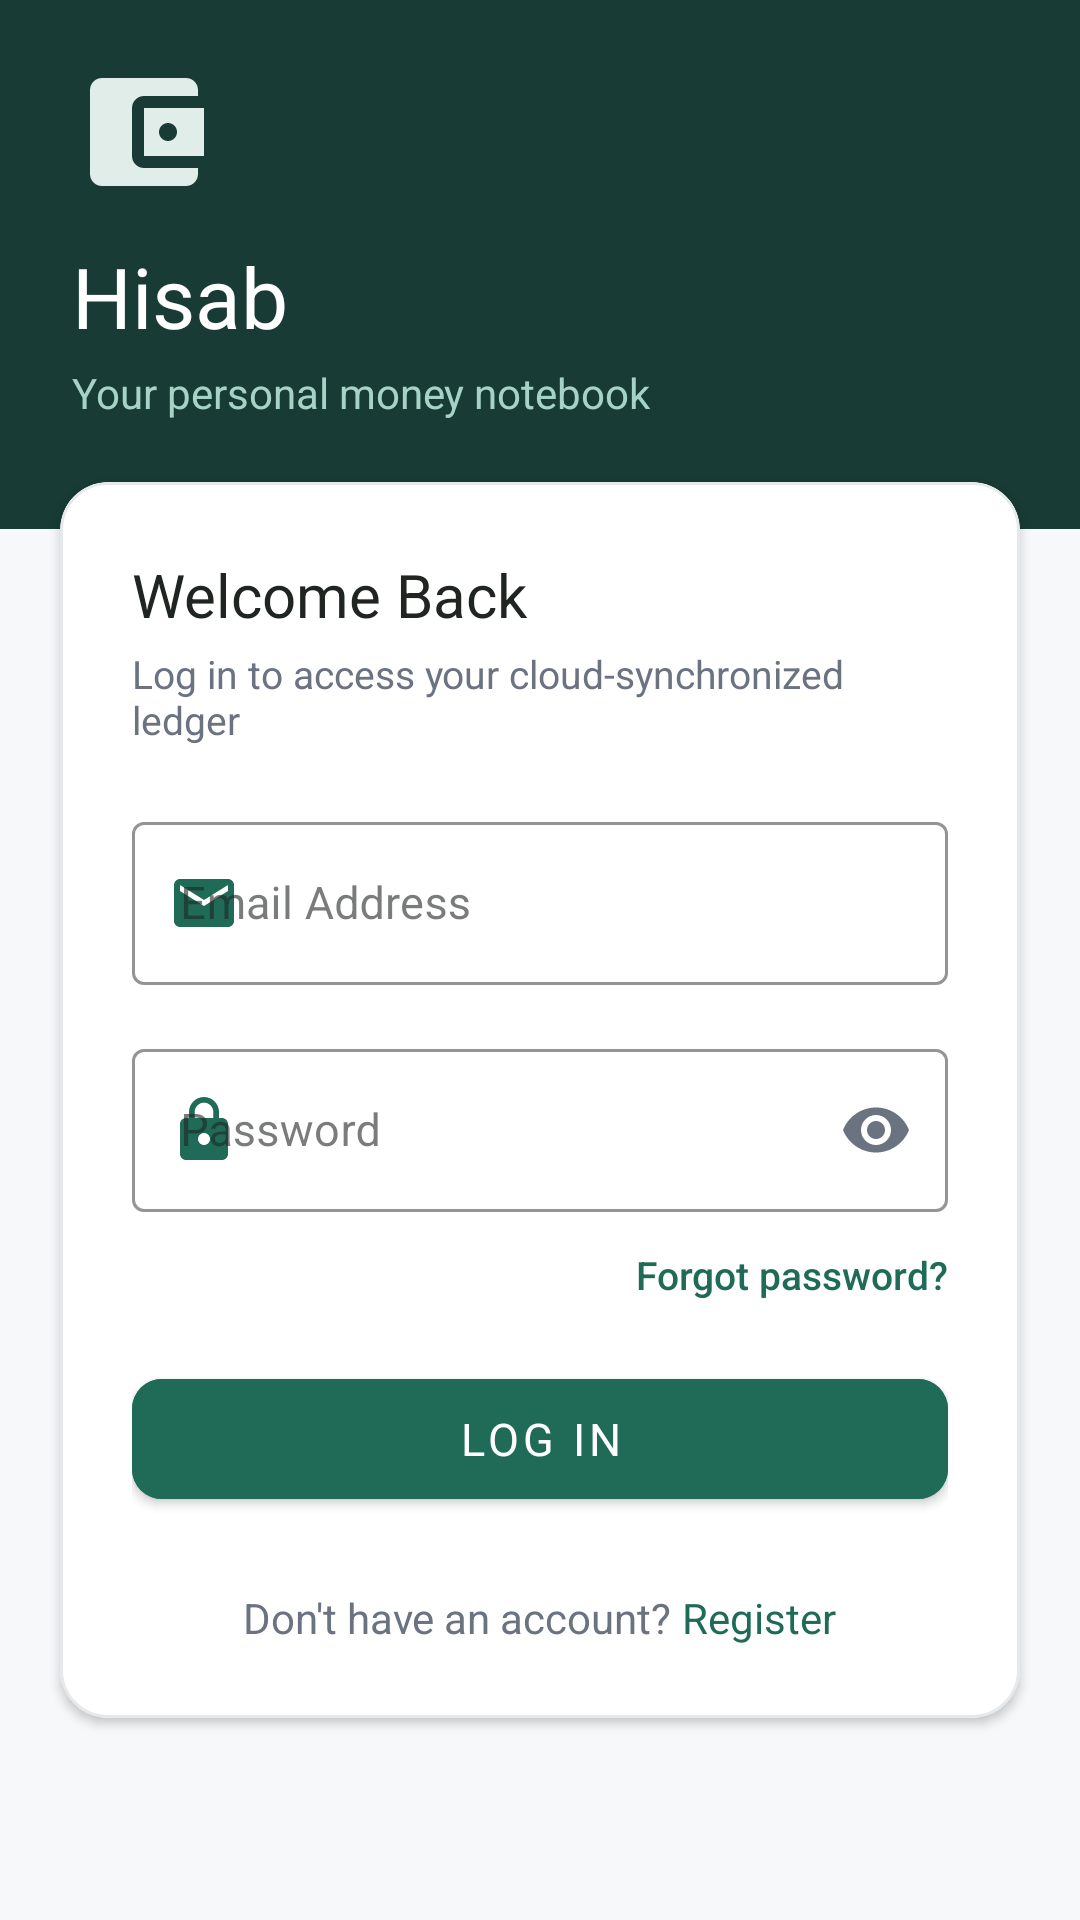

Point at icon controls on the screen. Image size 1080 x 1920, points as [x,y].
account balance wallet: [147,132]
